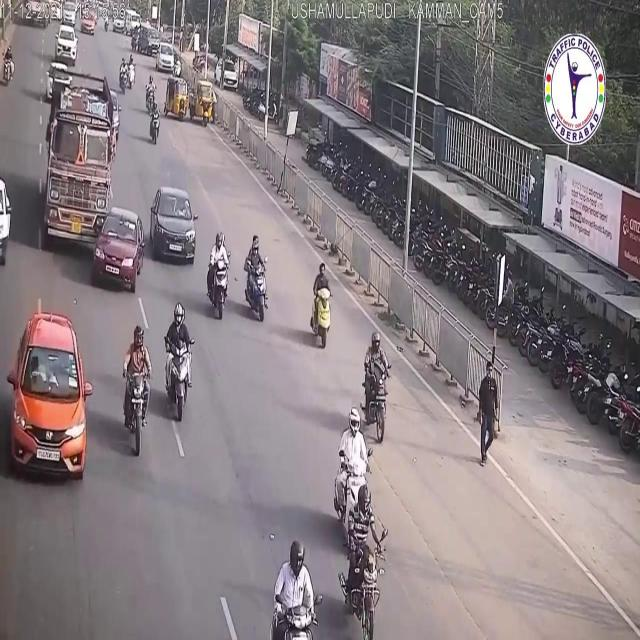accident: (41, 52, 147, 305)
non_accident: (138, 20, 178, 78), (141, 72, 159, 145)
